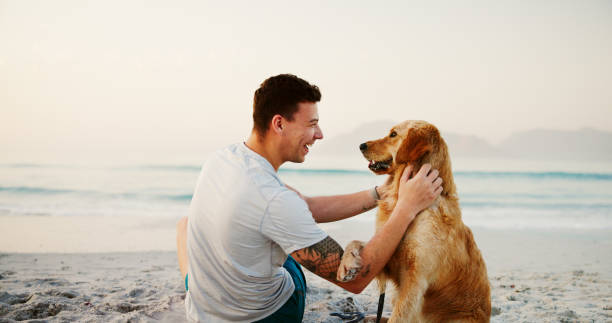Male: (181, 79, 350, 320)
